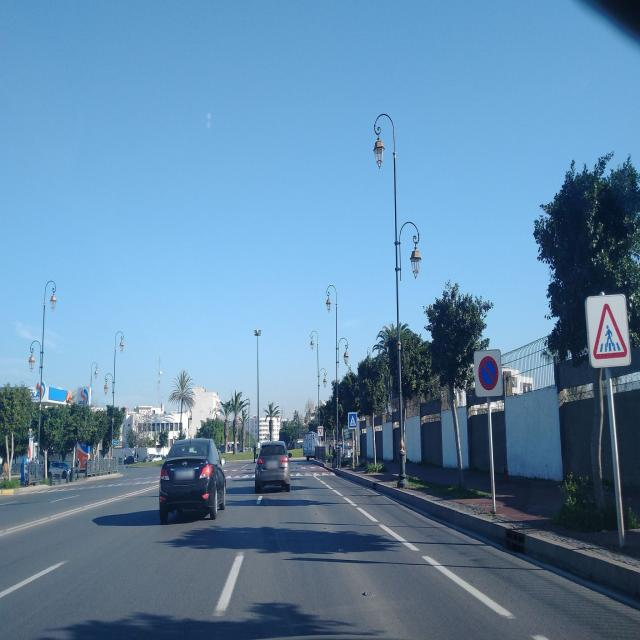forb_stopping: (476, 348, 502, 396)
